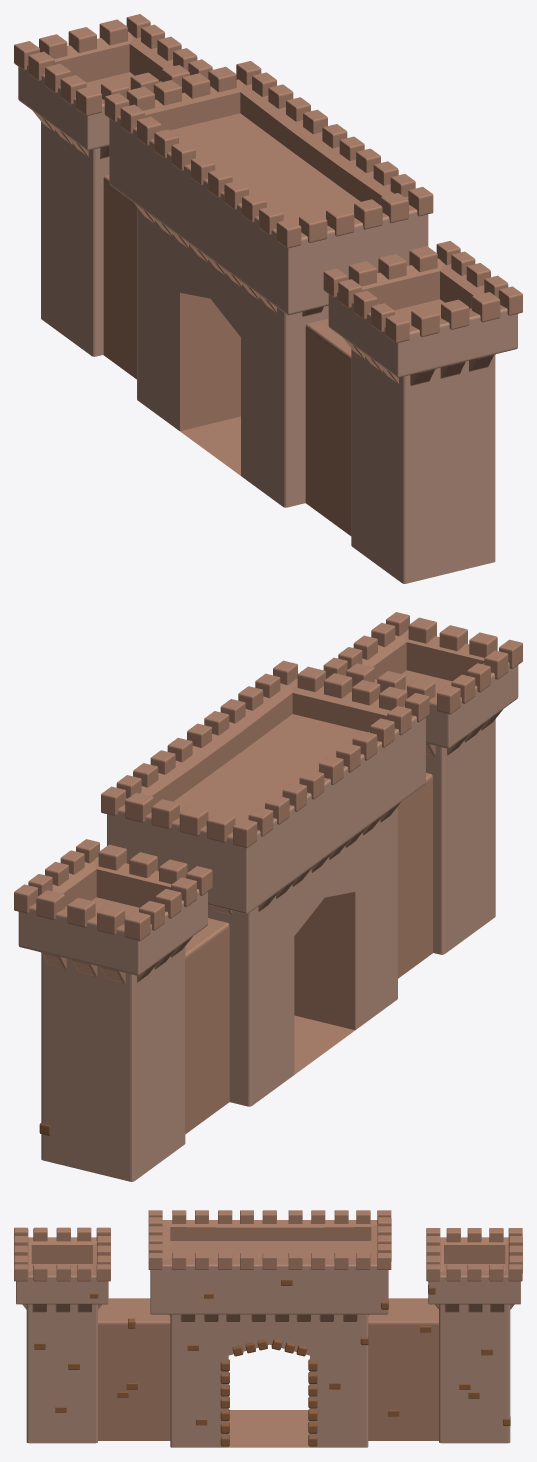
File: Castle.fbx
3 views of the same model, one above another, from view 1: azimuth 30°, elevation 25°; view 2: azimuth 150°, elevation 25°; view 3: azimuth 270°, elevation 25° (orthographic). The views are drawn at different scales.
Visible parts, largest first — view 1: Cube.001; view 2: Cube.001; view 3: Cube.001.
Boxes of the visible parts, <box> form: Cube.001: <box>14,14,522,583</box>; Cube.001: <box>14,612,522,1181</box>; Cube.001: <box>14,1210,522,1447</box>.
Size of the model in its own units: 331 by 634 by 1498.
